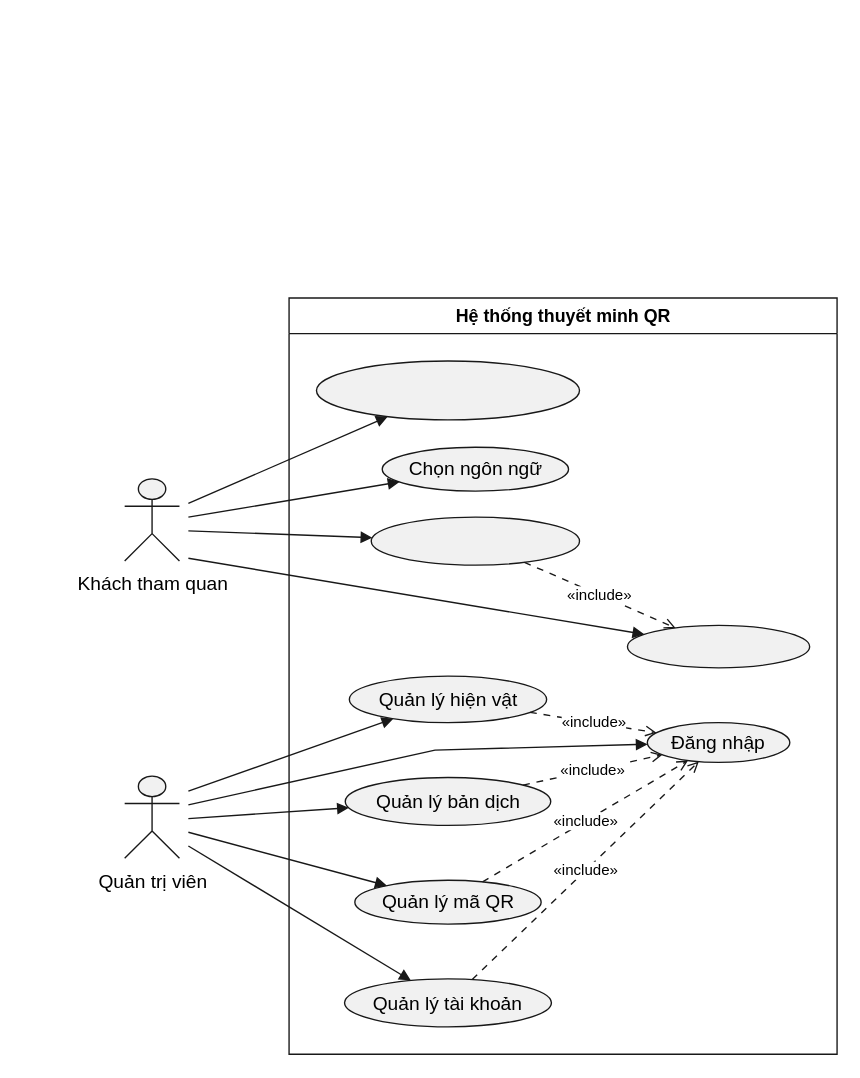
This 860x1078 diagram has some shape labels left out. The box of each missing label's shape, as (x1, y1, x2, y2) in pixels:
Nghe thuyết minh: (370, 516, 580, 565)
Tra cứu hiện vật qua QR: (315, 360, 580, 420)
Xem bản dịch: (626, 624, 810, 668)
